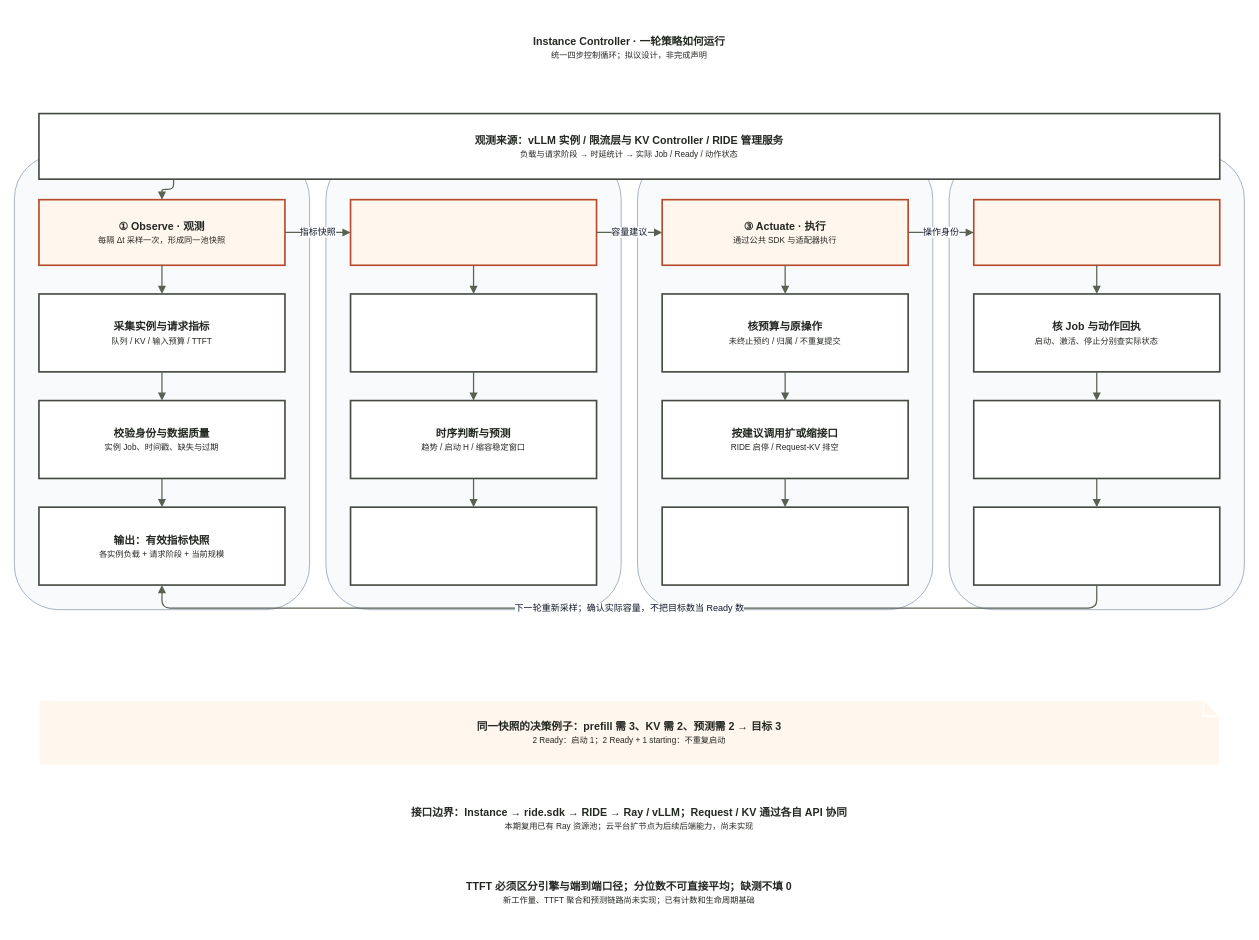
Image size: 1259x940. Some labels were removed from this diagram. Here are the shapes that lost their labels. From the top down, the centre of each, then its label:
At (473,232): "② Decide · 决策 只计算建议，不直接修改模型".
At (1096,232): "④ Verify · 验证 检查动作和效果，反馈下一轮".
At (473,332): "按池聚合 metrics 工作量求和；直方图合并后求分位".
At (1096,439): "核业务与资源效果 新增实例承接 / 排队 / TTFT / 释放".
At (473,545): "输出：目标副本数及原因 max(prefill、KV、预测、下限)".
At (785,545): "输出：原操作身份与阶段 扩缩互斥；受理不等于生效".
At (1096,545): "输出：实际状态与误差 观测回流；UNKNOWN 继续查原操作".
